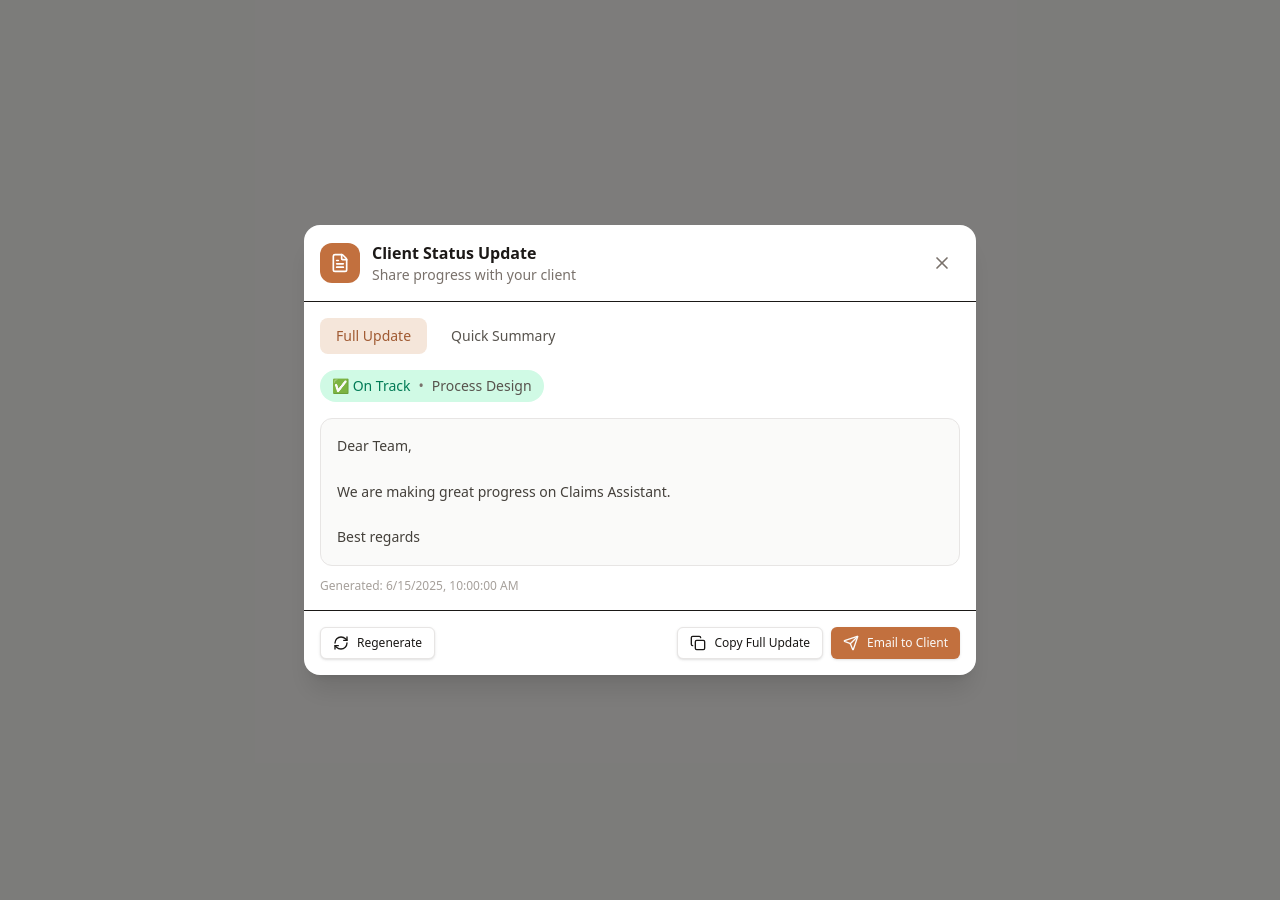
Scenario: StatusUpdateModal › shows copy button for full update and shows "Copied!" after clicking
Click the button "Copy Full Update" at (750, 643), box [678,627,823,659]
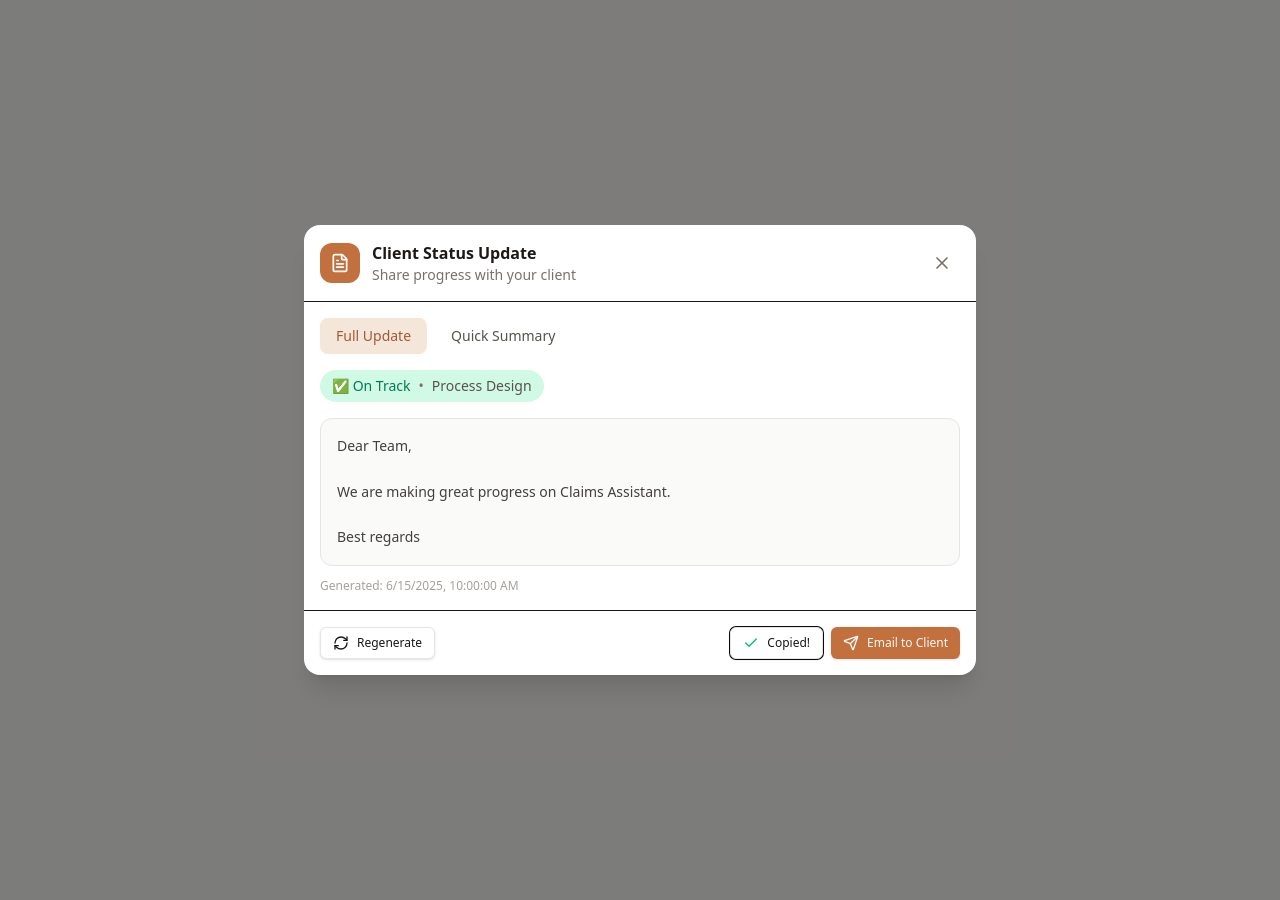
Now the button "Copied!" is shown, box [730,627,823,659]
